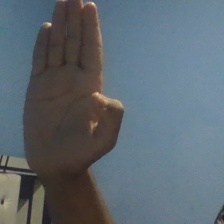B: (20, 1, 128, 177)
